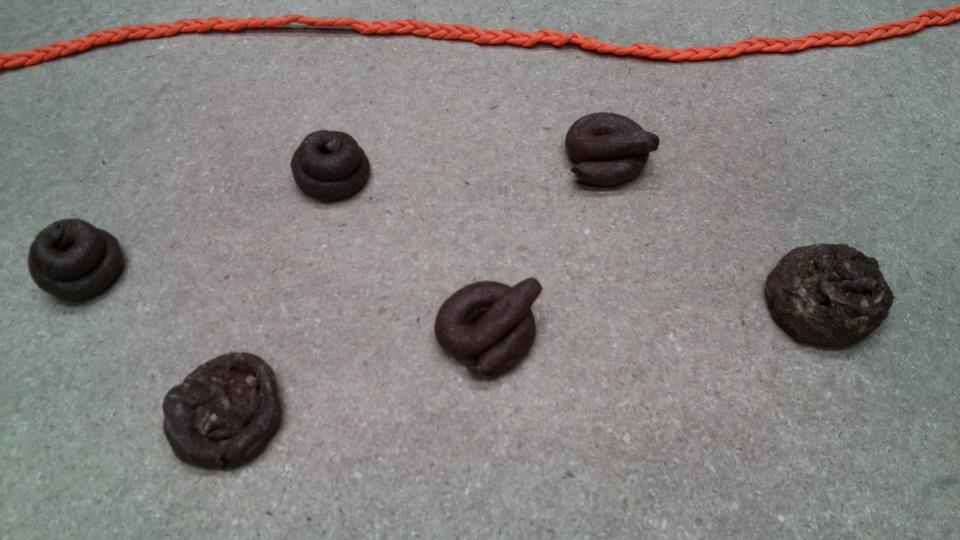poop: (159, 347, 290, 473), (759, 239, 899, 355), (433, 273, 547, 386), (22, 213, 129, 313), (562, 109, 663, 194), (287, 126, 373, 207)
rope: (1, 1, 957, 79)
